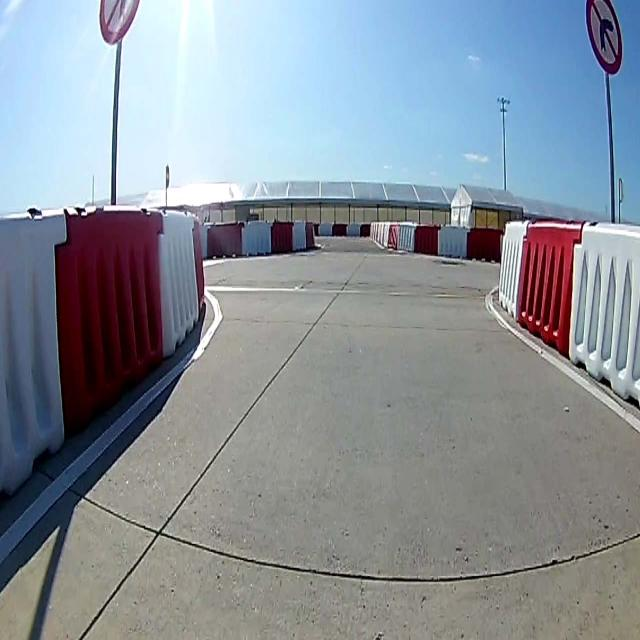sagadonulmez: (588, 1, 623, 78)
